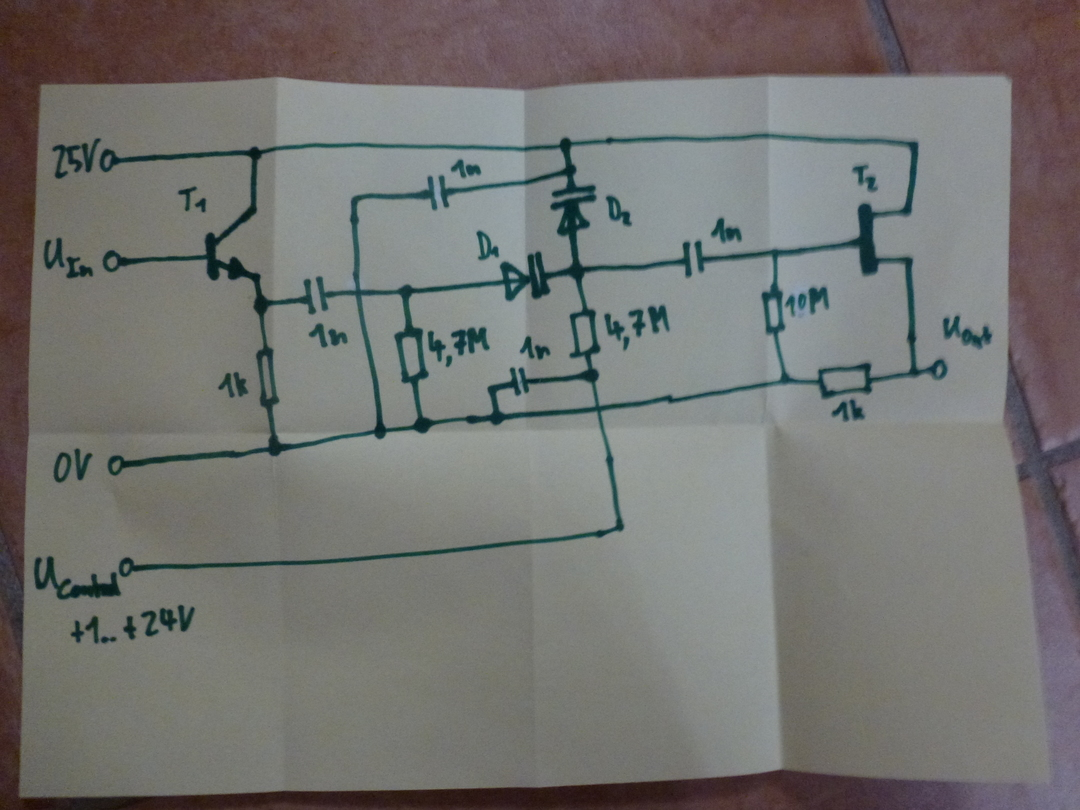capacitor.unpolarized: (300, 273, 332, 315), (680, 239, 709, 278), (424, 173, 452, 211), (507, 364, 533, 397)
crossover: (591, 401, 608, 417), (352, 285, 366, 300)
diode: (499, 251, 555, 304), (549, 183, 599, 236)
junction: (265, 434, 284, 460), (252, 294, 273, 316), (412, 416, 434, 436), (567, 260, 587, 282), (579, 366, 600, 384), (488, 409, 507, 427), (768, 246, 786, 263), (557, 136, 574, 153), (372, 423, 388, 441), (776, 372, 794, 388), (397, 283, 414, 299), (562, 162, 578, 178), (906, 137, 921, 153), (612, 519, 628, 534), (248, 145, 262, 161), (907, 365, 921, 381), (485, 382, 499, 395), (348, 193, 362, 205)
resistor: (392, 325, 431, 386), (815, 361, 875, 399), (254, 346, 282, 409), (568, 307, 601, 360), (760, 288, 787, 336)
terminal: (101, 248, 126, 274), (98, 148, 121, 173), (106, 453, 128, 477), (927, 358, 949, 382), (118, 556, 136, 578)
text: (69, 604, 197, 645), (32, 555, 123, 601), (602, 304, 672, 350), (427, 325, 491, 368), (42, 235, 96, 280), (51, 137, 103, 180), (939, 312, 994, 350), (783, 285, 833, 318), (51, 447, 94, 485), (307, 321, 349, 348), (603, 194, 634, 229), (176, 183, 209, 215), (850, 161, 881, 194), (709, 215, 743, 245), (518, 334, 553, 363), (216, 370, 250, 399), (473, 229, 503, 261), (830, 397, 866, 423), (448, 158, 485, 180)
transistor: (853, 200, 918, 278), (202, 207, 263, 285)
